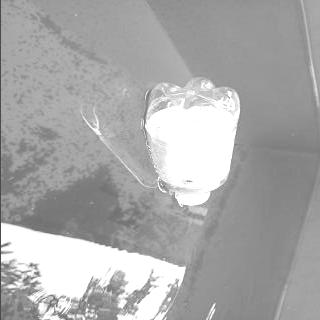bottle: (142, 74, 243, 208)
